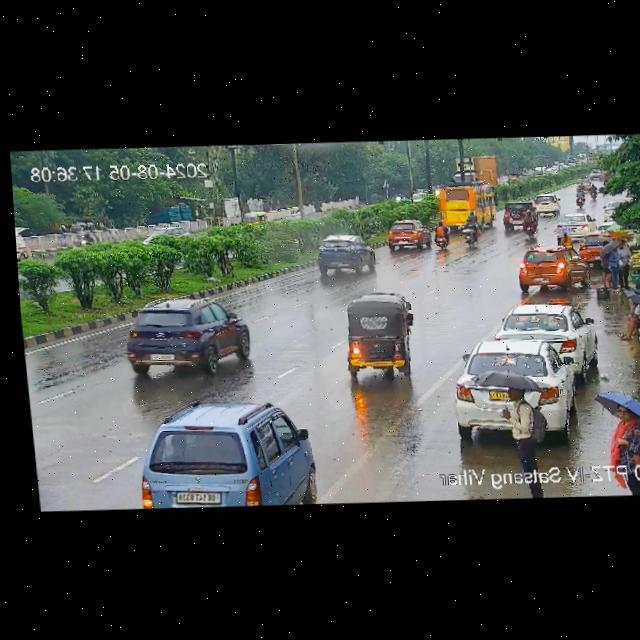bus: (431, 184, 500, 234)
car: (125, 396, 326, 510), (116, 294, 254, 376), (448, 339, 572, 414), (337, 290, 420, 378), (499, 300, 596, 362), (512, 244, 584, 291), (314, 230, 379, 280), (383, 220, 430, 251), (551, 211, 597, 236), (575, 231, 606, 260), (497, 198, 526, 229), (529, 193, 558, 216), (241, 209, 269, 228), (583, 178, 590, 191)
motorcycle: (453, 212, 481, 249), (566, 177, 600, 204), (430, 222, 452, 251), (71, 226, 95, 251), (522, 208, 540, 237)
person: (503, 379, 540, 463), (598, 237, 637, 292), (605, 400, 640, 460), (616, 299, 640, 343), (559, 232, 570, 244)
